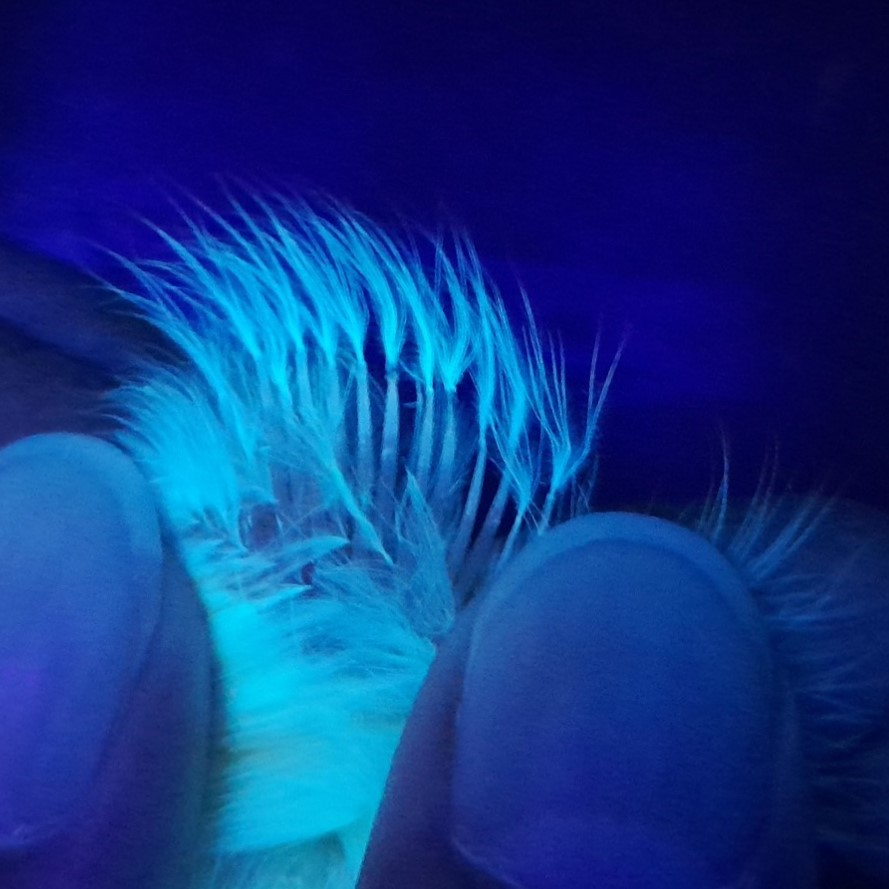male: (174, 308, 556, 650)
